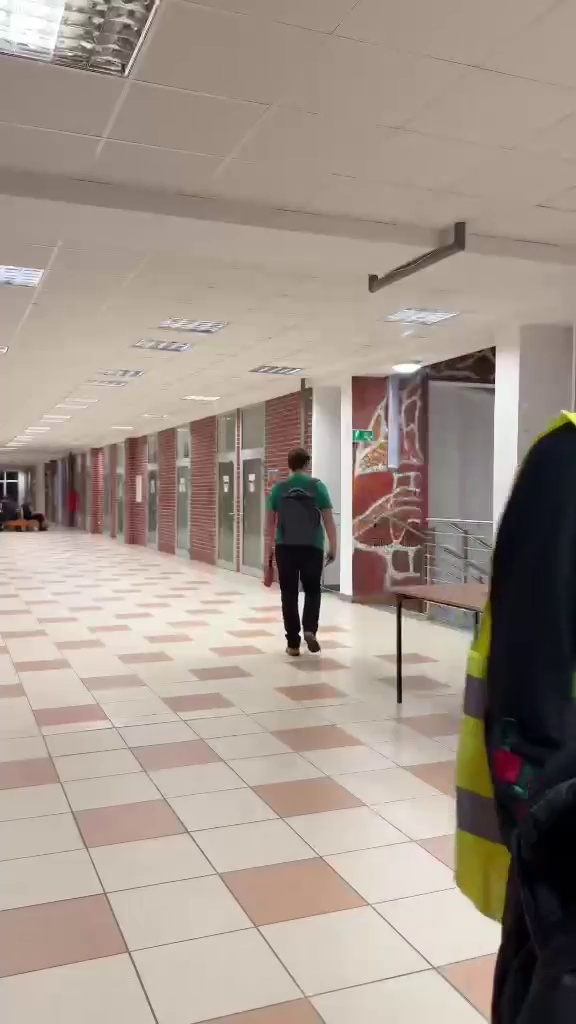no vest: (269, 440, 335, 664)
